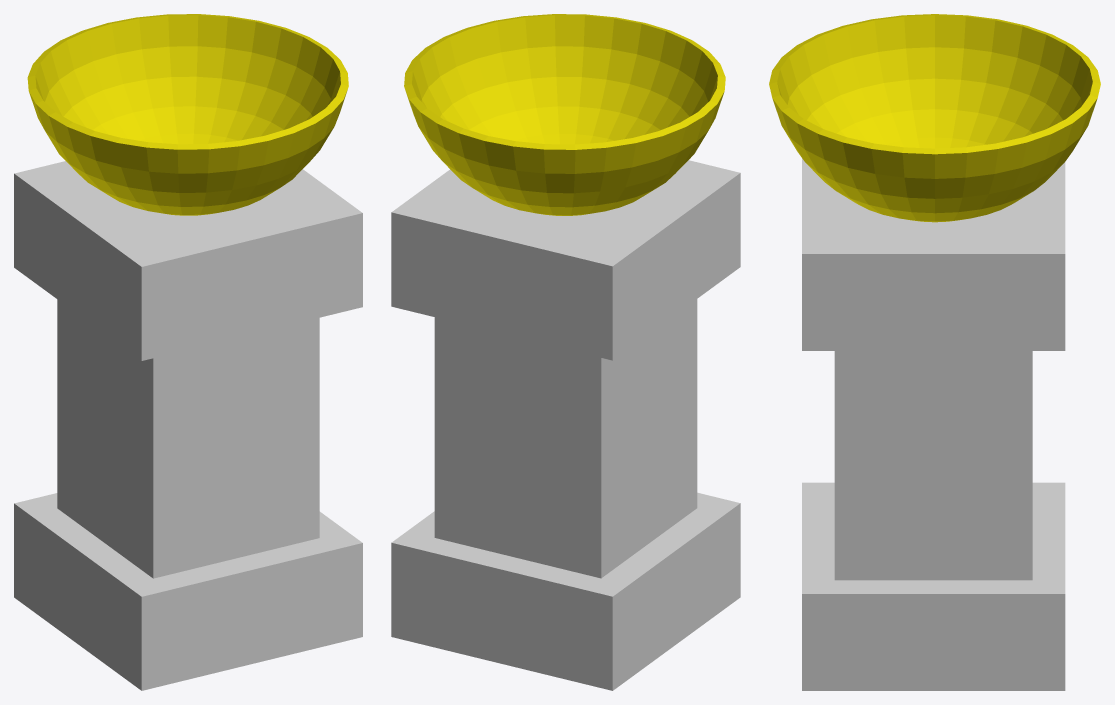
The model's file is PillarFull.fbx.
3 renders of one model, left to right at view 1: azimuth 30°, elevation 25°; view 2: azimuth 150°, elevation 25°; view 3: azimuth 270°, elevation 25°, orthographic. The views are drawn at different scales.
Parts seen in each view (by area): view 1: Cube, Sphere, Cube.001, Cube.002; view 2: Cube, Sphere, Cube.001, Cube.002; view 3: Sphere, Cube, Cube.001, Cube.002.
Boxes of the visible parts, x1,y1,x2,y2 form: Cube: (57, 299, 319, 578); Sphere: (27, 14, 348, 215); Cube.001: (14, 161, 362, 360); Cube.002: (14, 493, 362, 690); Cube: (434, 299, 697, 578); Sphere: (404, 14, 725, 215); Cube.001: (391, 160, 740, 360); Cube.002: (391, 492, 740, 690); Sphere: (769, 14, 1100, 222); Cube: (834, 351, 1032, 580); Cube.001: (802, 158, 1065, 350); Cube.002: (802, 482, 1065, 690).
Bounding box in the file's own units: 335 × 617 × 335.
